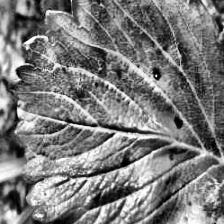Leaf Spot: (10, 0, 224, 224)
